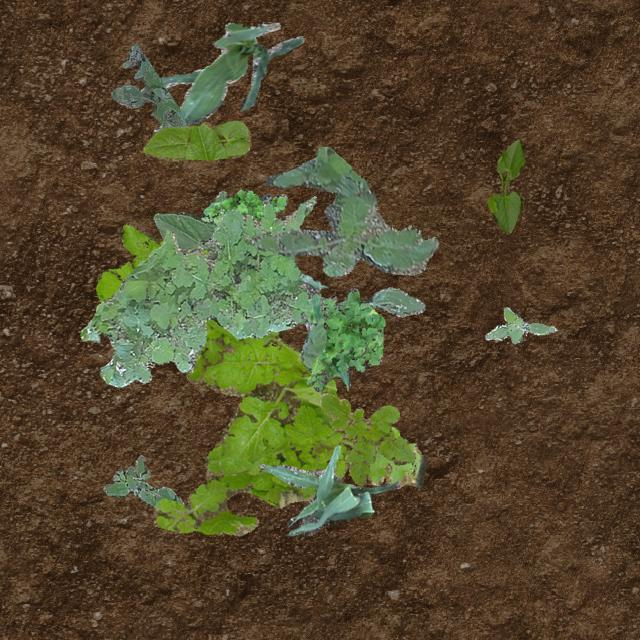crop: (140, 22, 302, 132), (258, 444, 400, 534), (152, 190, 270, 252), (142, 120, 248, 160), (486, 138, 524, 232), (300, 272, 324, 330)
weed: (152, 330, 426, 534), (80, 196, 323, 387), (250, 146, 438, 276), (95, 222, 236, 382), (300, 288, 424, 370), (318, 392, 414, 484), (306, 286, 384, 391), (110, 42, 188, 128), (102, 454, 182, 506), (198, 188, 286, 228), (484, 306, 556, 342)
